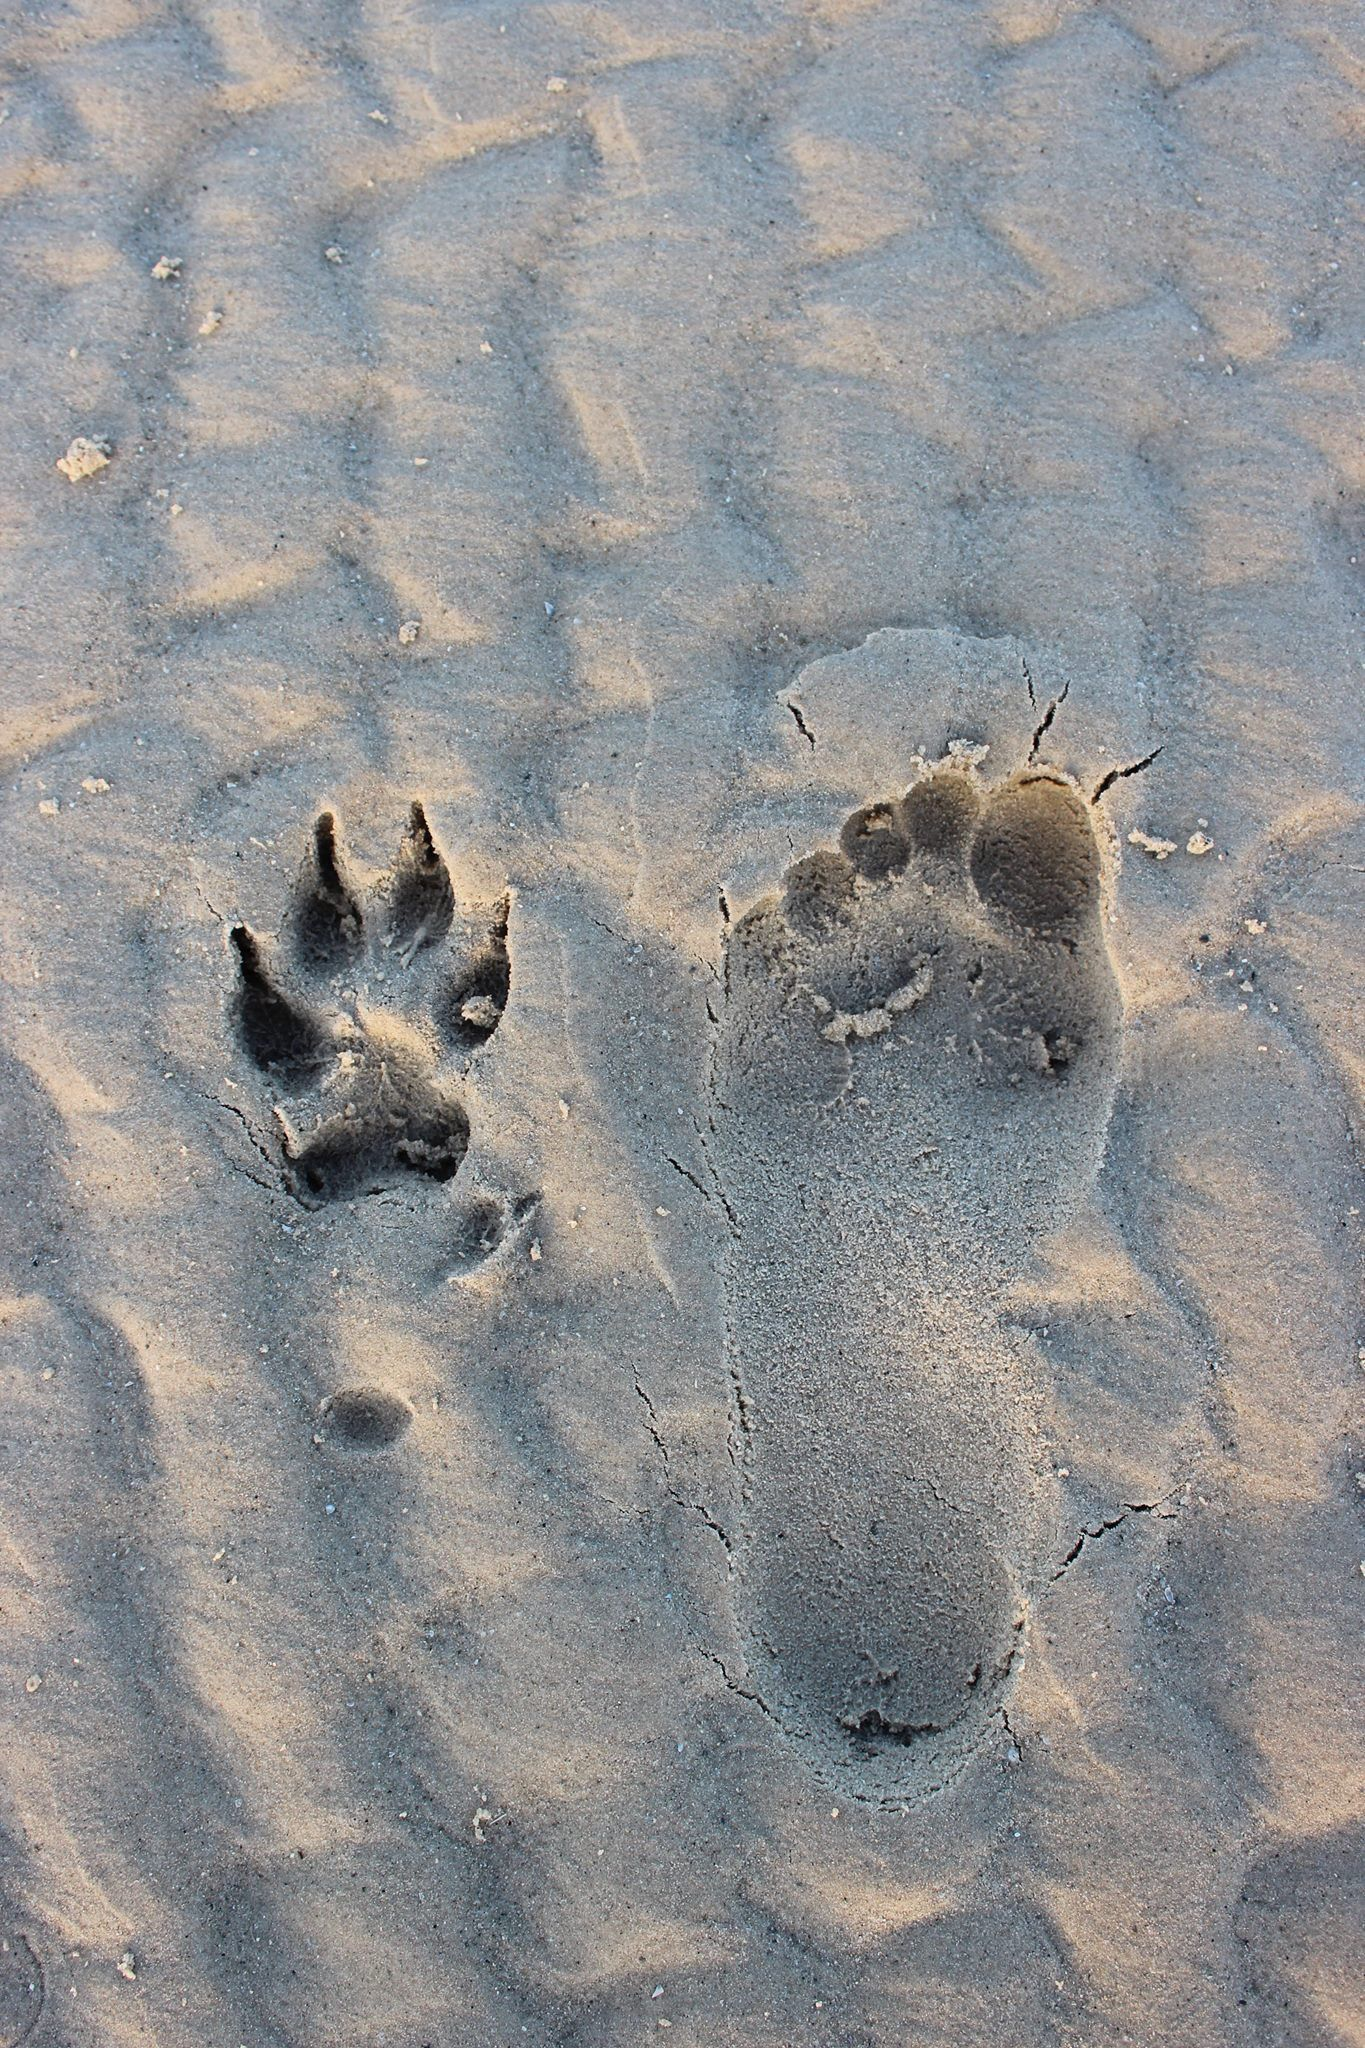chien: (229, 801, 532, 1217)
